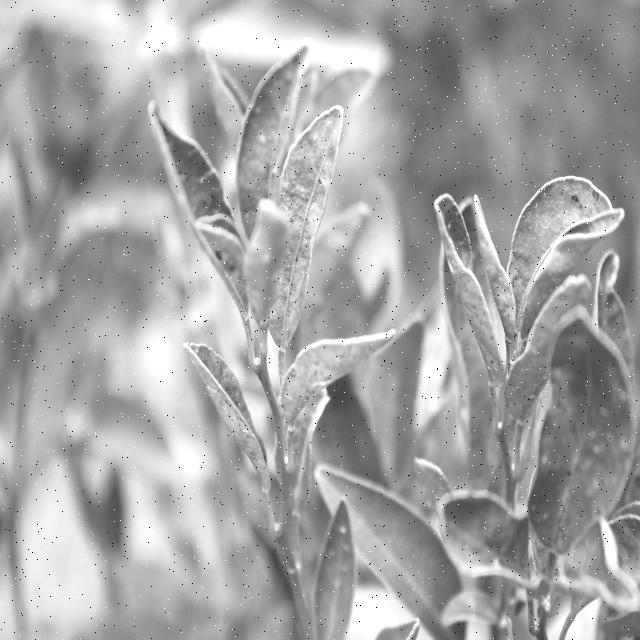canker: (189, 338, 266, 492), (276, 133, 333, 320), (552, 364, 610, 536), (279, 338, 375, 414), (451, 238, 498, 374), (564, 184, 608, 226), (506, 258, 533, 314)
